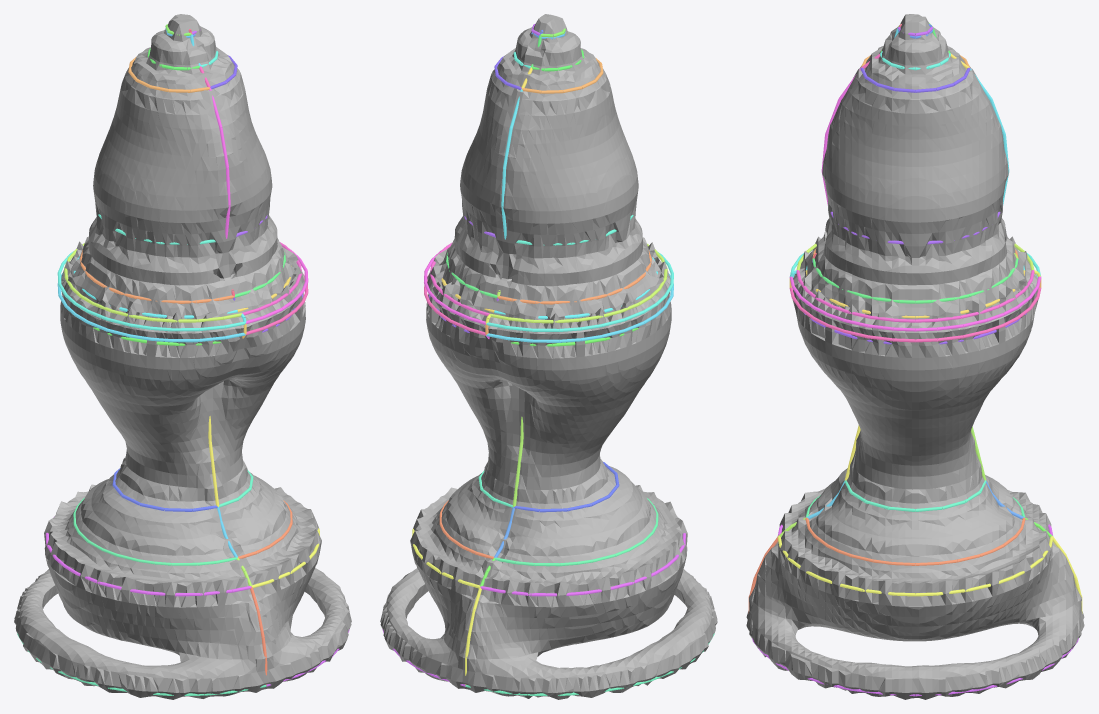
Rendered from onshape_bishop.gltf.
The picture shows the model from 3 angles, left to right: view 1: azimuth 30°, elevation 25°; view 2: azimuth 150°, elevation 25°; view 3: azimuth 270°, elevation 25°; orthographic projection.
Bounding box in the file's own units: 0.4168 × 0.8332 × 0.4164.
